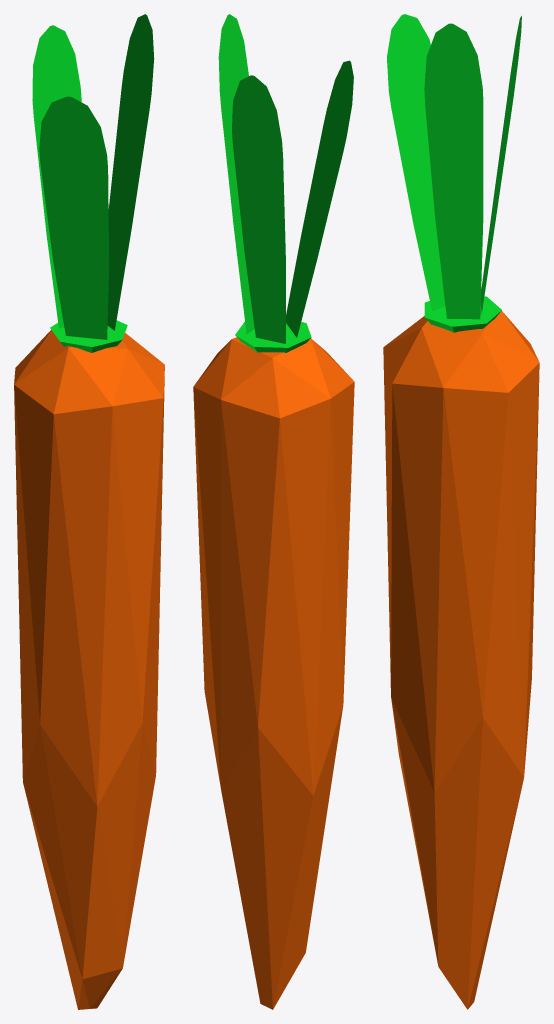
Rendered from Carrot.fbx.
The picture shows the model from 3 angles, left to right: view 1: azimuth 30°, elevation 25°; view 2: azimuth 150°, elevation 25°; view 3: azimuth 270°, elevation 25°; orthographic projection. The views are drawn at different scales.
Visible parts, largest first — view 1: Carrot, CarrotLeave.001, CarrotLeave.002, CarrotLeave, Cylinder; view 2: Carrot, CarrotLeave, CarrotLeave.001, CarrotLeave.002, Cylinder; view 3: Carrot, CarrotLeave.002, CarrotLeave.001, CarrotLeave, Cylinder.
Part boxes in pixels (x1,y1,x2,y2): Carrot: (14,330,164,1009); CarrotLeave.001: (39,96,109,339); CarrotLeave.002: (107,14,154,330); CarrotLeave: (32,25,81,328); Cylinder: (50,320,127,352); Carrot: (193,337,354,1009); CarrotLeave: (232,75,285,343); CarrotLeave.001: (286,60,353,337); CarrotLeave.002: (218,14,254,334); Cylinder: (235,322,311,352); Carrot: (383,311,539,1009); CarrotLeave.002: (424,23,483,319); CarrotLeave.001: (387,14,445,311); CarrotLeave: (480,16,521,313); Cylinder: (424,296,501,332).
Bounding box in the file's own units: 94.91 × 674 × 94.83.
